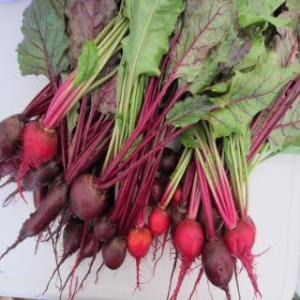beet: (23, 122, 58, 174), (203, 238, 237, 290), (72, 173, 103, 217), (176, 220, 206, 264), (225, 222, 255, 256), (131, 225, 153, 258), (103, 236, 125, 266), (152, 200, 169, 236), (92, 222, 112, 236)
